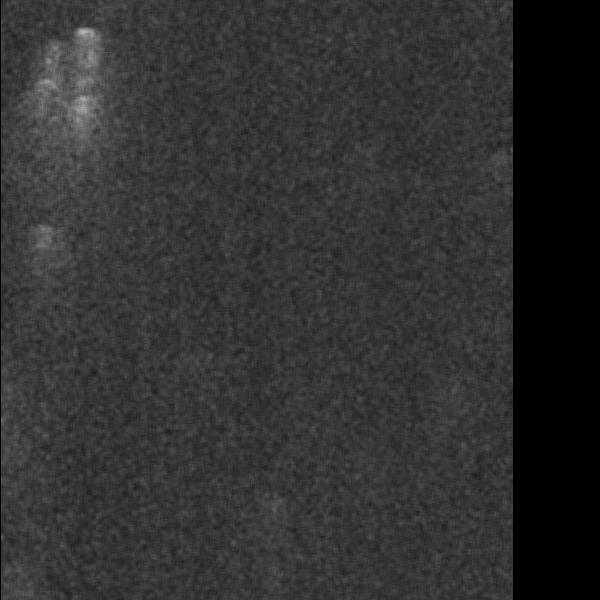spark: (28, 43, 64, 153), (26, 219, 63, 280), (43, 93, 103, 129), (60, 18, 110, 49), (268, 489, 281, 533)
